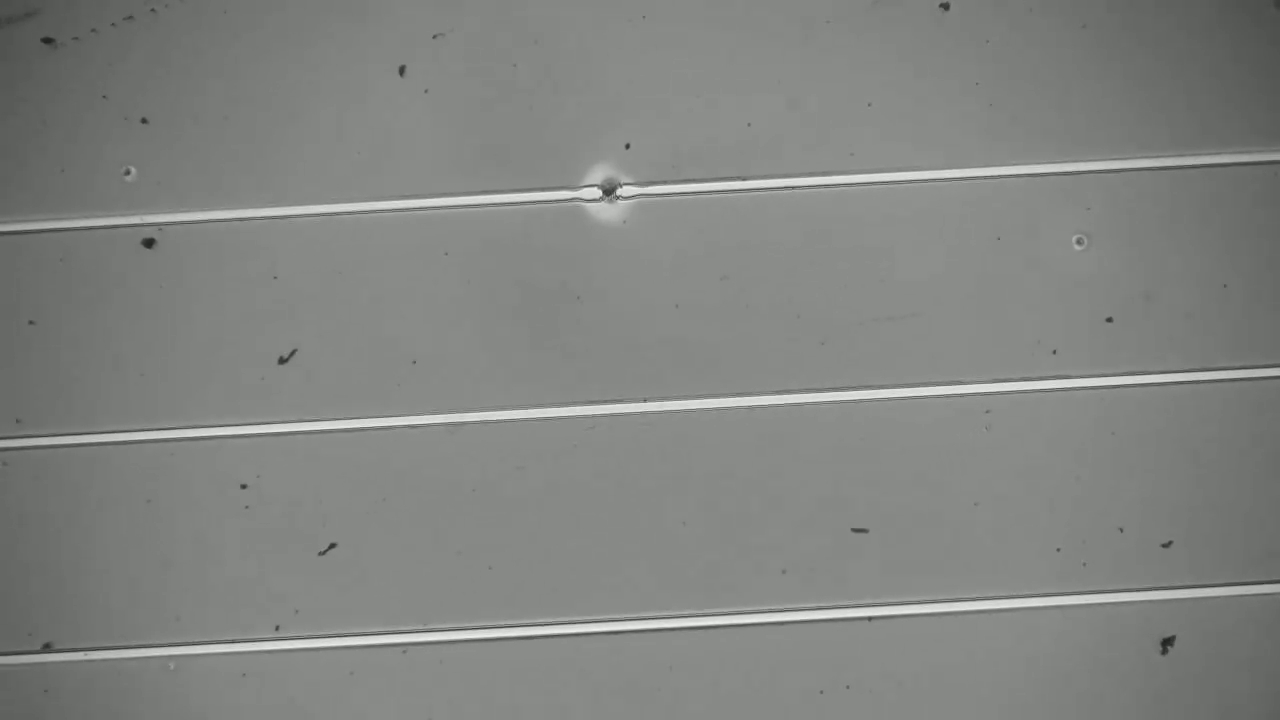stains_enbedded: (589, 168, 631, 215)
